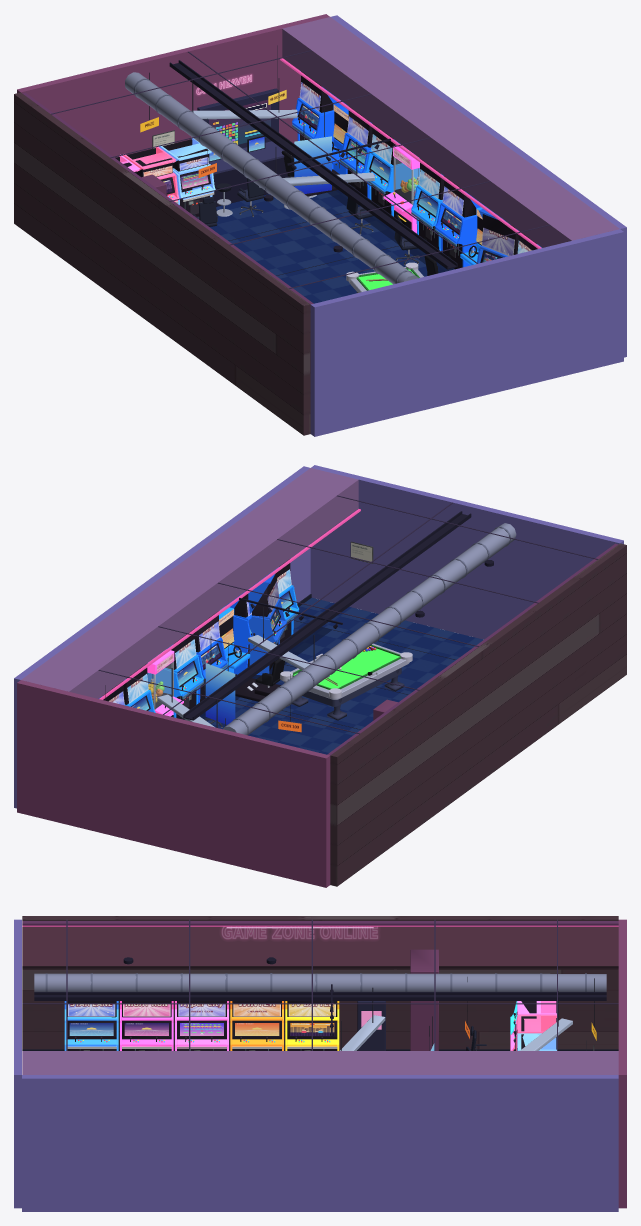
Rendered from game-room-1.lod1.glb.
3 renders of one model, top to bottom at view 1: azimuth 30°, elevation 25°; view 2: azimuth 150°, elevation 25°; view 3: azimuth 270°, elevation 25°, orthographic. The views are drawn at different scales.
Parts seen in each view (by area): view 1: object 35, object 34, object 40, object 36, object 31, object 170, object 59, object 172, object 41, object 89, spot:arcade-claw, object 51 (+16 smaller); view 2: object 36, object 34, object 35, object 40, object 31, object 170, object 172, object 59, object 41, spot:arcade-claw, object 81, object 142 (+9 smaller); view 3: object 35, object 37, object 34, object 40, object 170, object 172, object 59, object 43, spot:arcade-coin, object 36, object 41, object 48 (+21 smaller).
Part boxes in pixels (box(x1,y1,x2,y2)): object 35: box(310, 15, 626, 436); object 34: box(14, 92, 310, 435); object 40: box(282, 17, 619, 247); object 36: box(17, 14, 329, 157); object 31: box(209, 157, 453, 303); object 170: box(125, 72, 418, 284); object 59: box(115, 71, 537, 268); object 172: box(169, 60, 457, 269); object 41: box(51, 50, 549, 288); object 89: box(292, 71, 484, 267); spot:arcade-claw: box(411, 158, 443, 250); object 51: box(193, 109, 374, 187); object 36: box(17, 680, 330, 887); object 34: box(330, 543, 626, 886); object 35: box(14, 465, 623, 808); object 40: box(21, 468, 358, 698); object 31: box(200, 598, 483, 754); object 170: box(223, 523, 516, 734); object 172: box(183, 511, 493, 720); object 59: box(103, 559, 293, 717); object 41: box(98, 495, 598, 734); spot:arcade-claw: box(147, 628, 203, 718); object 81: box(248, 566, 286, 675); object 142: box(293, 648, 399, 689); object 35: box(14, 919, 618, 1211); object 37: box(22, 926, 618, 965); object 34: box(22, 916, 618, 1049); object 40: box(22, 1051, 618, 1074); object 170: box(34, 973, 606, 991); object 172: box(34, 957, 606, 1037); object 59: box(67, 1001, 556, 1050); object 43: box(22, 921, 618, 925); spot:arcade-coin: box(230, 1001, 283, 1050); object 36: box(618, 919, 626, 1208); object 41: box(22, 919, 618, 1050); object 48: box(410, 949, 438, 1050).
Bounding box in the file's own units: 9.4 × 3.6 × 15.
Materials: 182 (72 with a texture image).
